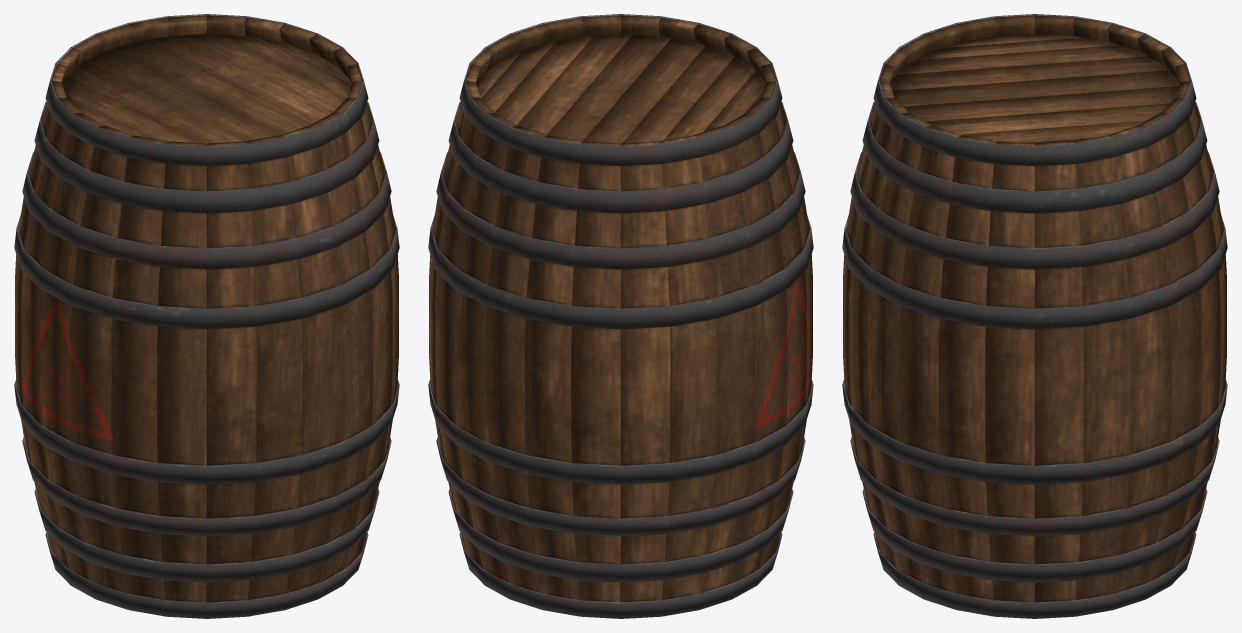
File: barril.glb
The picture shows the model from 3 angles, left to right: view 1: azimuth 30°, elevation 25°; view 2: azimuth 150°, elevation 25°; view 3: azimuth 270°, elevation 25°; orthographic projection.
Visible parts, largest first — view 1: g (×28); view 2: g (×28); view 3: g (×27).
Boxes of the visible parts, x1=… form: g (×28): x1=14, y1=14, x2=399, y2=618; g (×28): x1=428, y1=14, x2=813, y2=618; g (×27): x1=842, y1=14, x2=1227, y2=618.
Size of the model in its own units: 1.48 by 2 by 1.48.
Materials: 1 (1 with a texture image).
